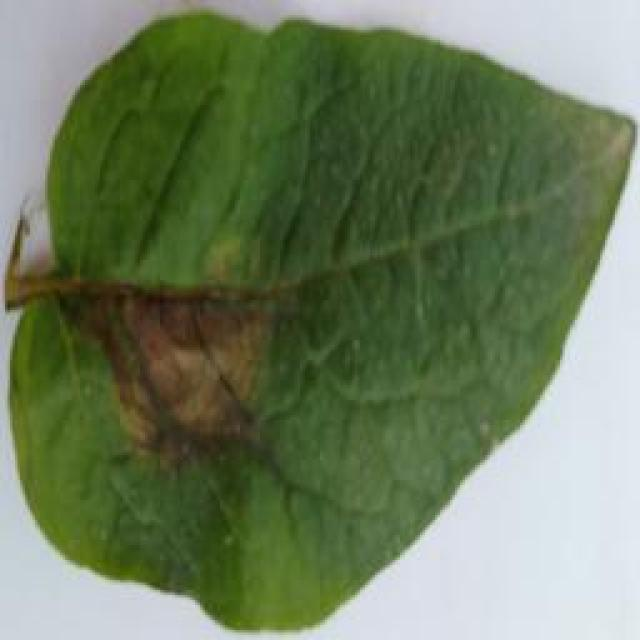Potato_Late_Blight: (8, 6, 624, 634)
